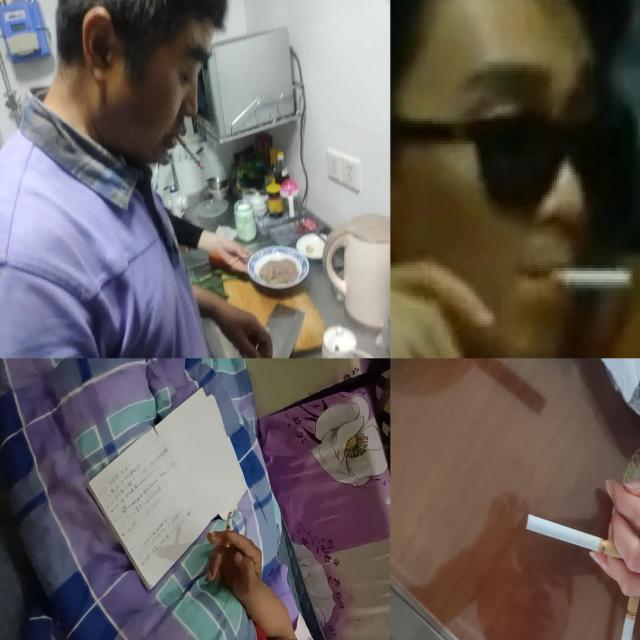smoke: (526, 512, 630, 564), (540, 268, 635, 294), (608, 581, 640, 640), (176, 133, 204, 169), (224, 512, 233, 548)
